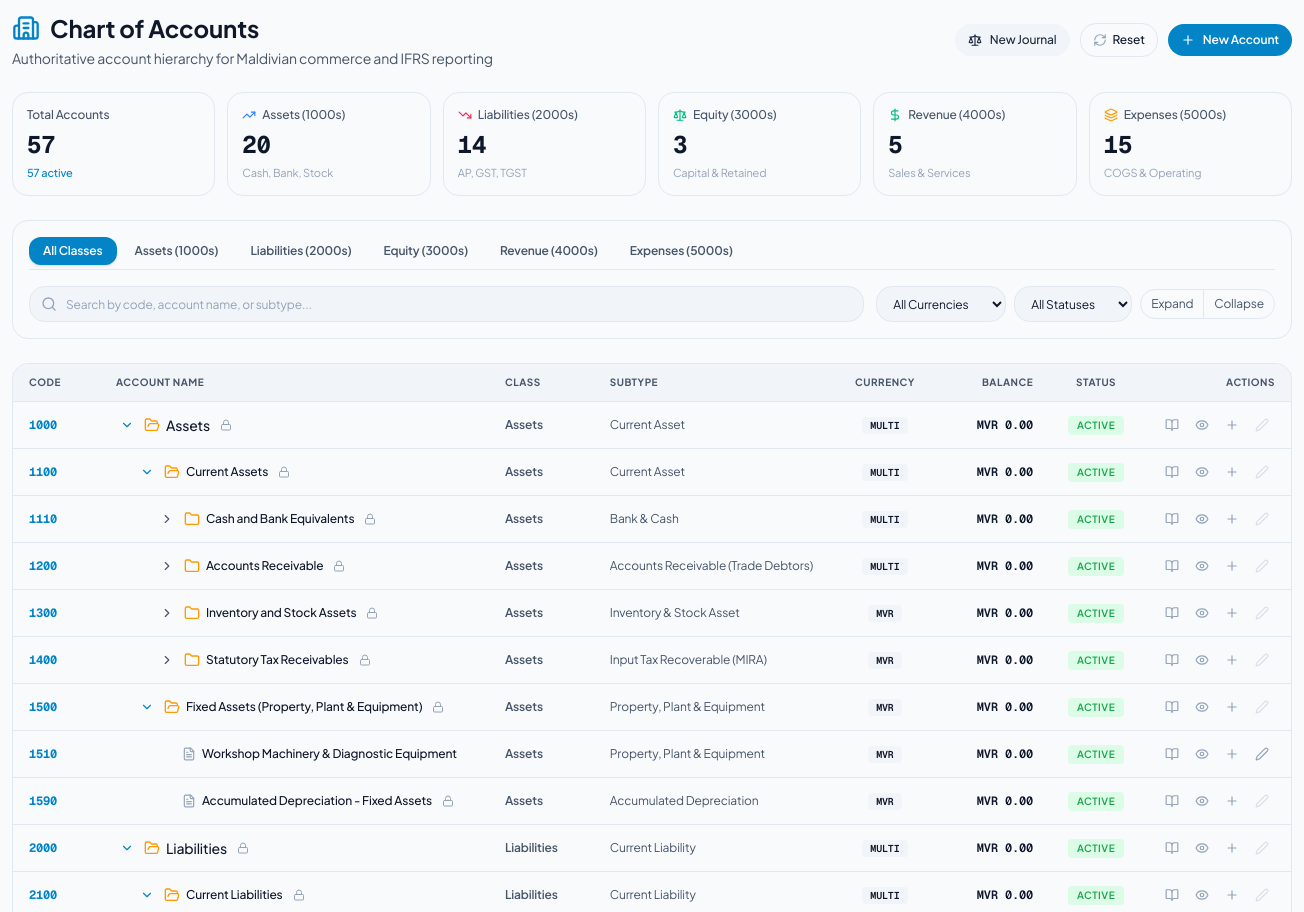
Test: SERP-291: Live Double-Entry Journal Posting UI & General Ledger Explorer › drills down from a Chart of Accounts node into its specific General Ledger statement
# Click on the first account ledger button (1000 Assets)
Click the 1st button titled "View Account in General Ledger" at (1172, 425), box left=1159, top=412, right=1185, bottom=438
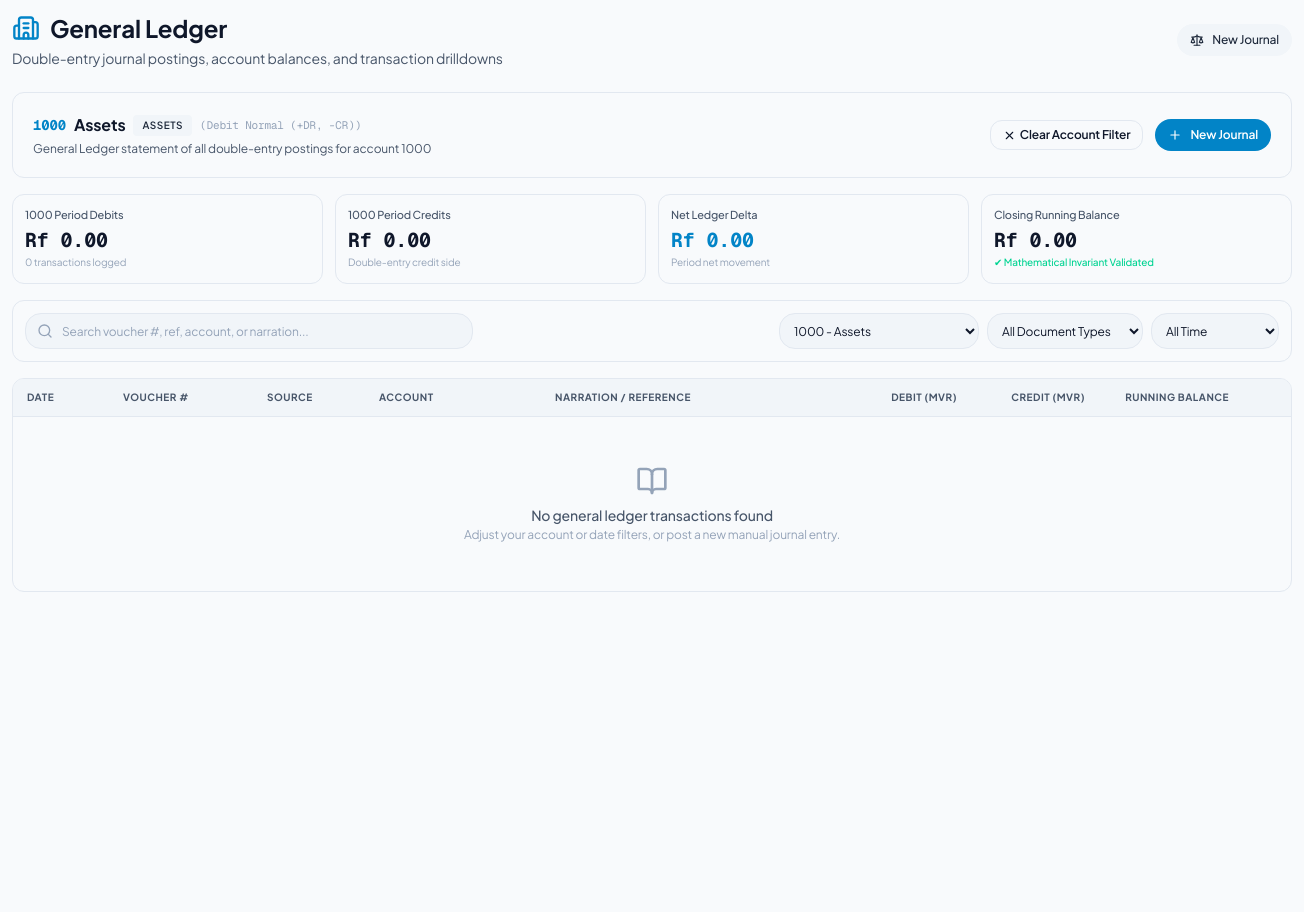
Now the text "General Ledger statement of all double-entry postings for account" is shown, box left=33, top=141, right=401, bottom=156
Now the button "Clear Account Filter" is shown
# Click Clear Filter
Click the button "Clear Account Filter" at (1067, 135), box left=990, top=120, right=1143, bottom=150
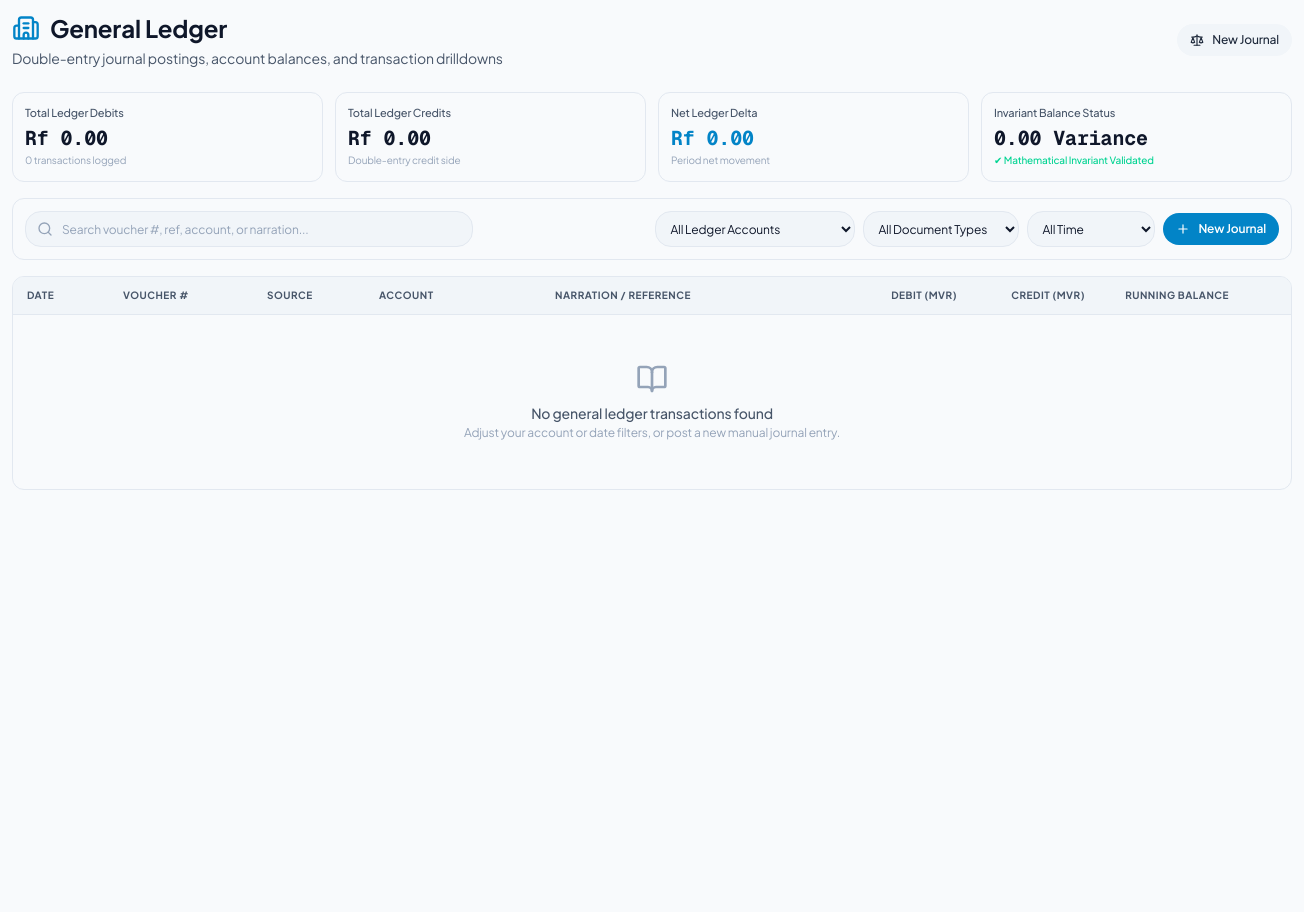
Now the button "Clear Account Filter" is gone
